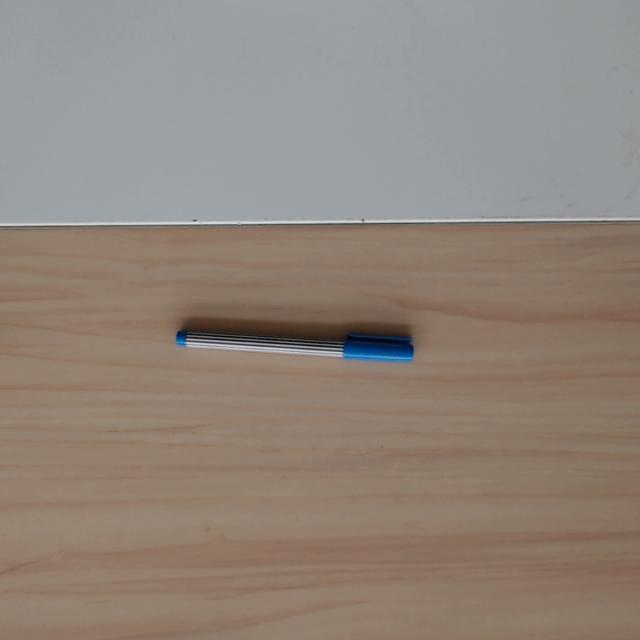Pulpen-Garis-Biru: (175, 323, 415, 365)
